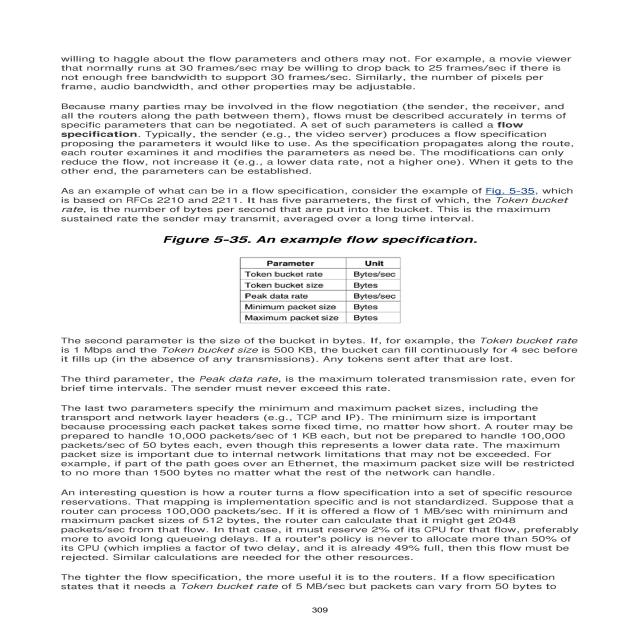diagram: (142, 230, 507, 338)
